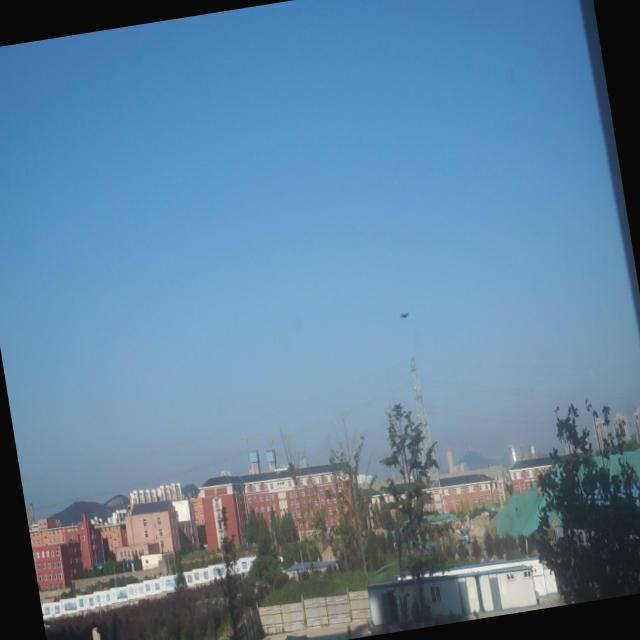drone: (396, 308, 412, 325)
